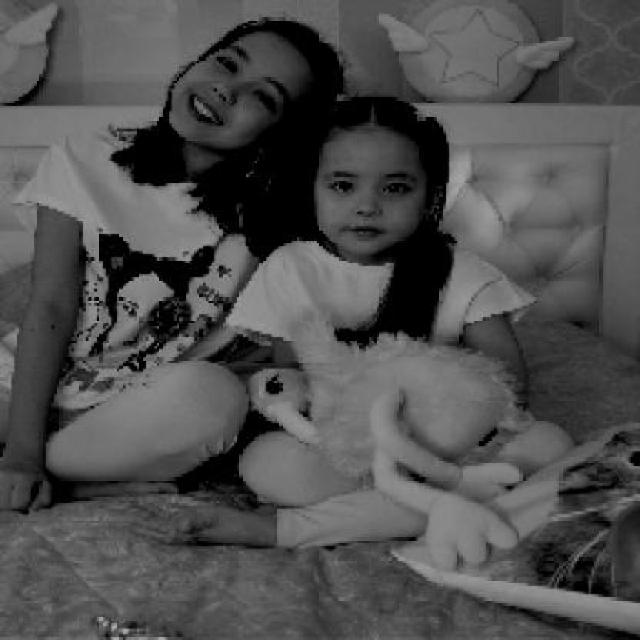child: (223, 94, 540, 546)
